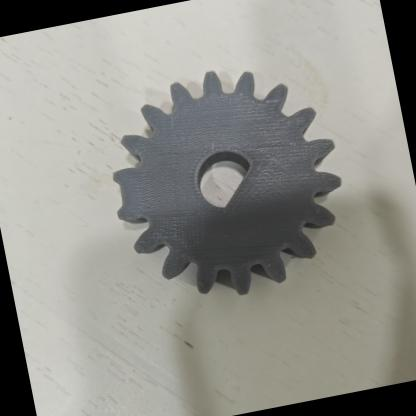defect: (204, 146, 266, 234), (100, 146, 163, 232)
gear: (95, 51, 358, 314)
